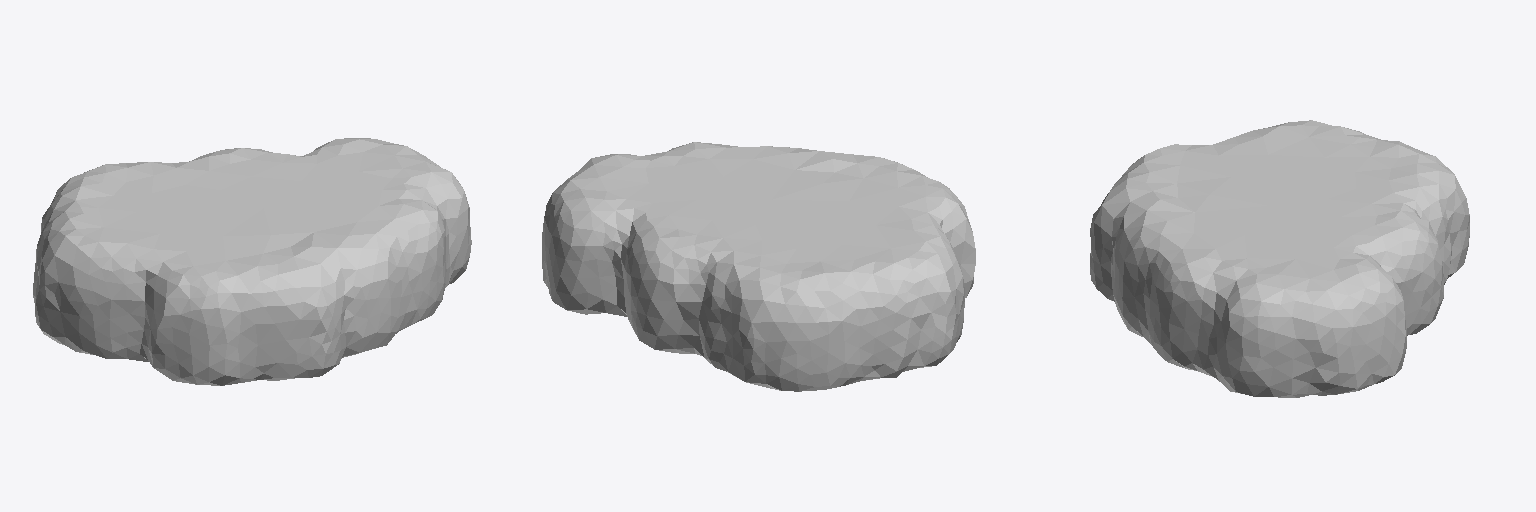
The model's file is CavePlatform2_4.obj.
3 views of the same model, side by side, from view 1: azimuth 30°, elevation 25°; view 2: azimuth 150°, elevation 25°; view 3: azimuth 270°, elevation 25° (orthographic).
Visible parts, largest first — view 1: CavePlatform2-4; view 2: CavePlatform2-4; view 3: CavePlatform2-4.
Part boxes in pixels (x1,y1,x2,y2): CavePlatform2-4: (33, 138, 471, 385); CavePlatform2-4: (542, 142, 975, 391); CavePlatform2-4: (1090, 120, 1469, 397).
Bounding box in the file's own units: 36.13 × 9.41 × 29.63.